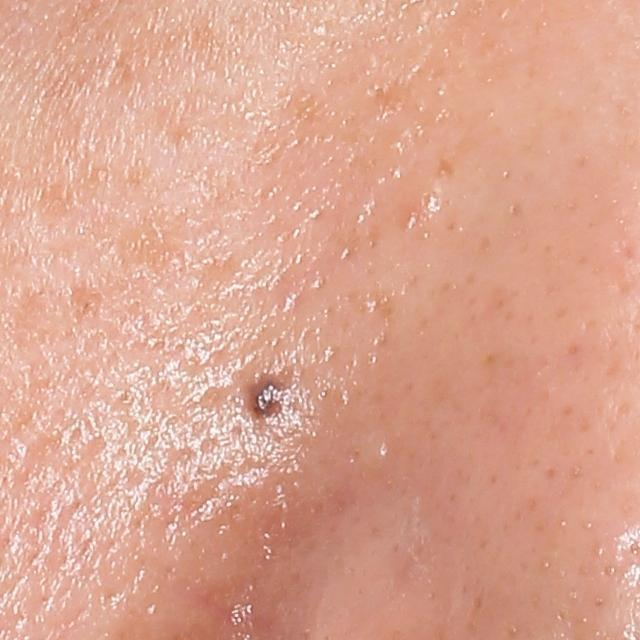melasma: (62, 286, 104, 322)
nevus: (249, 376, 287, 420)
